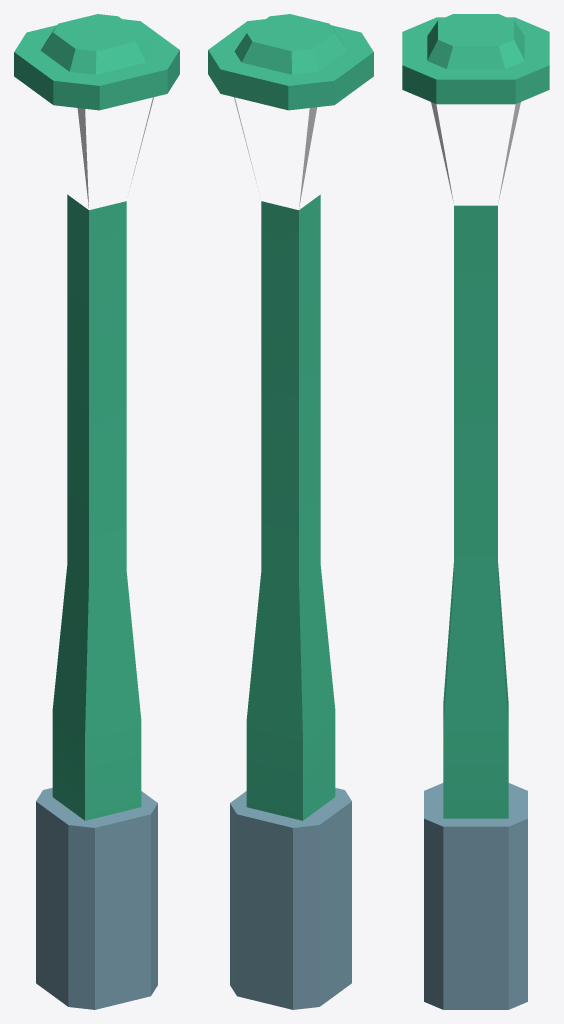
Rendered from lantern.glb.
3 renders of one model, left to right at view 1: azimuth 30°, elevation 25°; view 2: azimuth 150°, elevation 25°; view 3: azimuth 270°, elevation 25°, orthographic.
Parts seen in each view (by area): view 1: lantern; view 2: lantern; view 3: lantern.
Part boxes in pixels (x1=…): lantern: x1=14, y1=14, x2=179, y2=1009; lantern: x1=208, y1=14, x2=373, y2=1009; lantern: x1=402, y1=14, x2=549, y2=1009.
Bounding box in the file's own units: 0.2706 × 1.94 × 0.2706.
